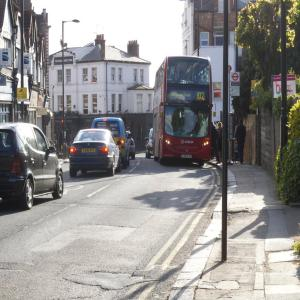Vehicle-registration-plate: (82, 149, 97, 154), (183, 155, 192, 159)
